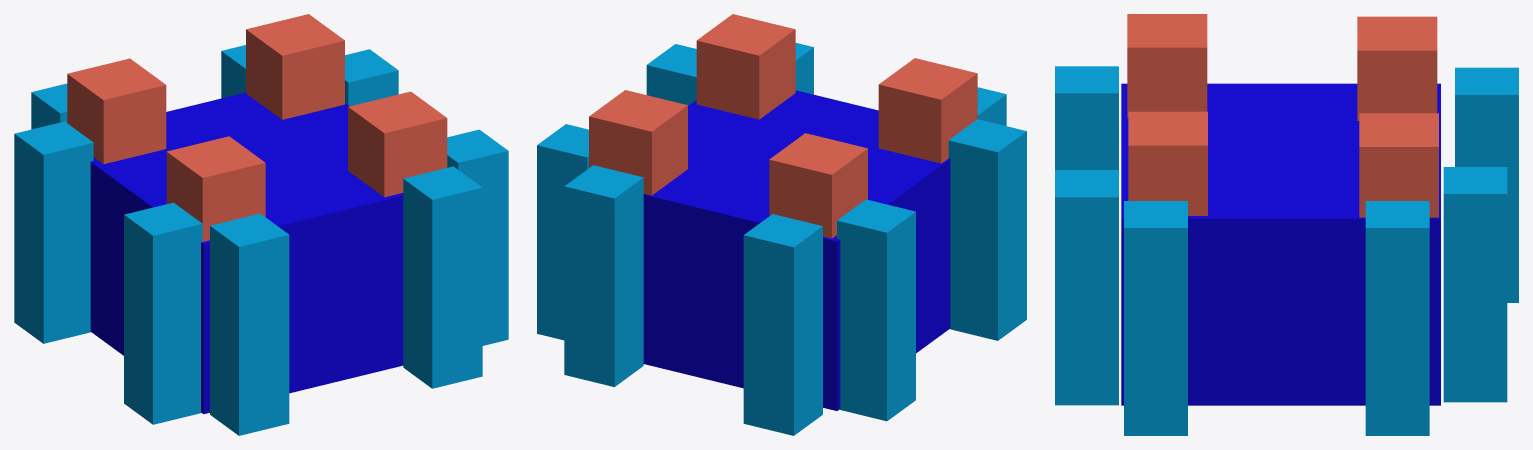
File: bluemain.glb
3 renders of one model, left to right at view 1: azimuth 30°, elevation 25°; view 2: azimuth 150°, elevation 25°; view 3: azimuth 270°, elevation 25°, orthographic. The views are drawn at different scales.
Parts seen in each view (by area): view 1: Cube, Cube.008, Cube.009, Cube.012, Cube.010, Cube.001, Cube.003, Cube.004, Cube.002, Cube.006, Cube.007, Cube.011 (+1 smaller); view 2: Cube, Cube.005, Cube.011, Cube.010, Cube.012, Cube.004, Cube.002, Cube.001, Cube.003, Cube.007, Cube.006, Cube.009 (+1 smaller); view 3: Cube, Cube.005, Cube.007, Cube.008, Cube.006, Cube.011, Cube.003, Cube.002, Cube.004, Cube.001, Cube.009.
Boxes of the visible parts, x1,y1,x2,y2 form: Cube: [90, 92, 403, 414]; Cube.008: [403, 166, 482, 388]; Cube.009: [210, 213, 289, 435]; Cube.012: [14, 121, 93, 343]; Cube.010: [124, 202, 202, 424]; Cube.001: [246, 14, 344, 119]; Cube.003: [67, 58, 166, 164]; Cube.004: [348, 91, 447, 197]; Cube.002: [166, 136, 265, 241]; Cube.006: [447, 129, 508, 345]; Cube.007: [345, 49, 398, 106]; Cube.011: [31, 83, 67, 129]; Cube: [643, 90, 950, 410]; Cube.005: [564, 165, 643, 386]; Cube.011: [743, 214, 822, 435]; Cube.010: [948, 119, 1026, 340]; Cube.012: [837, 199, 915, 421]; Cube.004: [696, 14, 795, 119]; Cube.002: [878, 58, 977, 163]; Cube.001: [589, 90, 687, 195]; Cube.003: [769, 133, 867, 238]; Cube.007: [537, 124, 588, 340]; Cube.006: [646, 44, 696, 105]; Cube.009: [977, 87, 1006, 125]; Cube: [1121, 83, 1440, 405]; Cube.005: [1443, 167, 1507, 402]; Cube.007: [1365, 201, 1429, 435]; Cube.008: [1055, 170, 1118, 405]; Cube.006: [1124, 201, 1187, 435]; Cube.011: [1455, 67, 1518, 302]; Cube.003: [1357, 16, 1437, 120]; Cube.002: [1127, 14, 1207, 118]; Cube.004: [1128, 111, 1207, 215]; Cube.001: [1359, 113, 1438, 217]; Cube.009: [1055, 66, 1118, 169].
Bounding box in the file's own units: 45.06 × 28.58 × 46.46.
